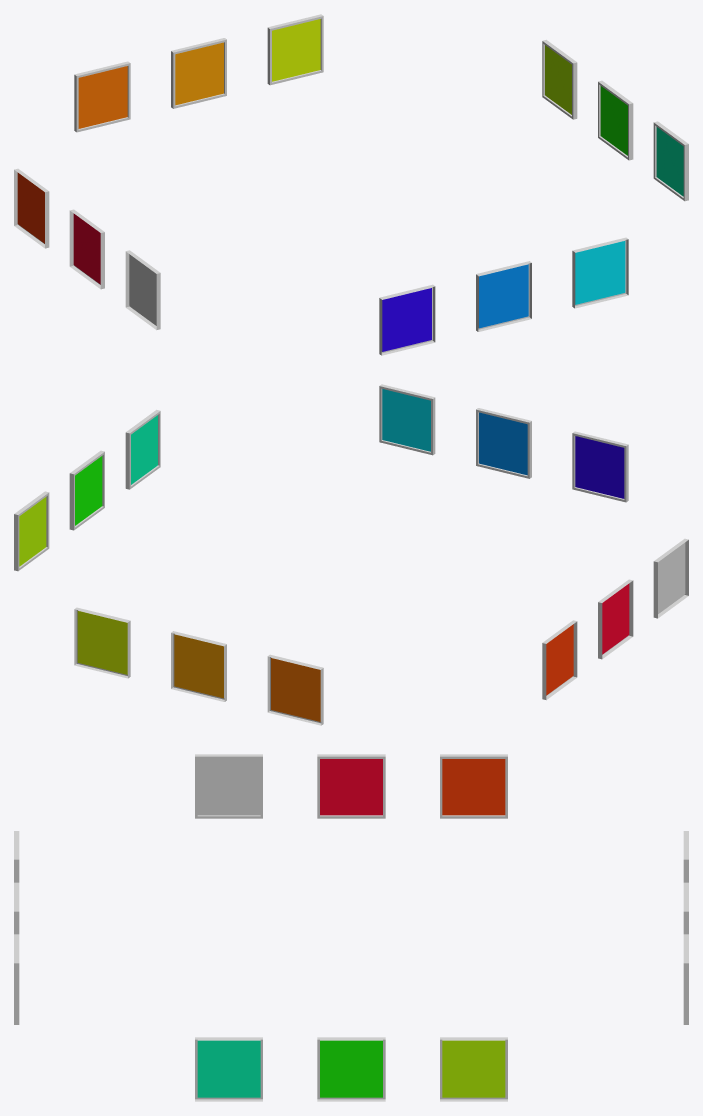
File: paintings.glb
3 renders of one model, top to bottom at view 1: azimuth 30°, elevation 25°; view 2: azimuth 150°, elevation 25°; view 3: azimuth 270°, elevation 25°, orthographic. The views are drawn at different scales.
Parts seen in each view (by area): view 1: paintings; view 2: paintings; view 3: paintings.
Part boxes in pixels (x1,y1,x2,y2): paintings: (14, 14, 688, 355); paintings: (14, 384, 688, 725); paintings: (14, 754, 688, 1101).
Bounding box in the file's own units: 11.02 × 1.11 × 11.02.
